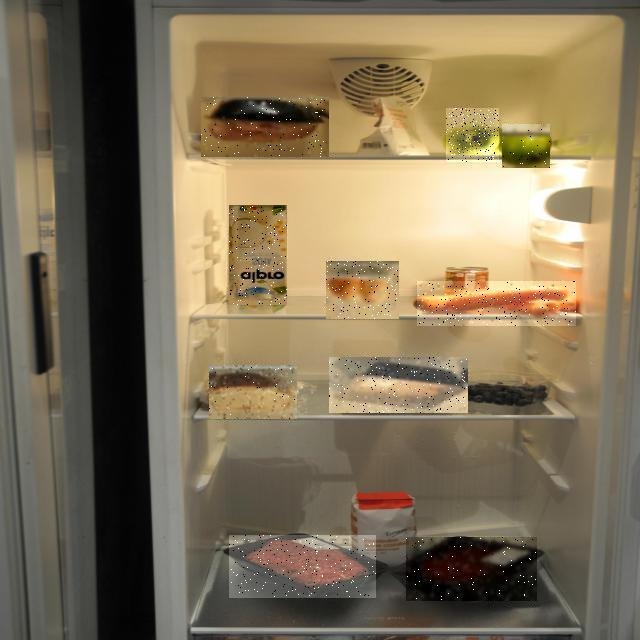Apple: (446, 108, 499, 162), (502, 124, 550, 168)
Bread: (209, 365, 297, 419)
Carrot: (417, 281, 576, 326)
Eggs: (326, 261, 399, 319)
Meat: (229, 535, 376, 598), (406, 537, 537, 601), (329, 357, 468, 413), (201, 97, 329, 157)
Milk: (229, 205, 287, 305)
